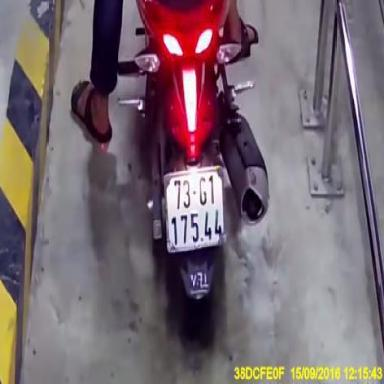License_Plate: (155, 158, 231, 261)
